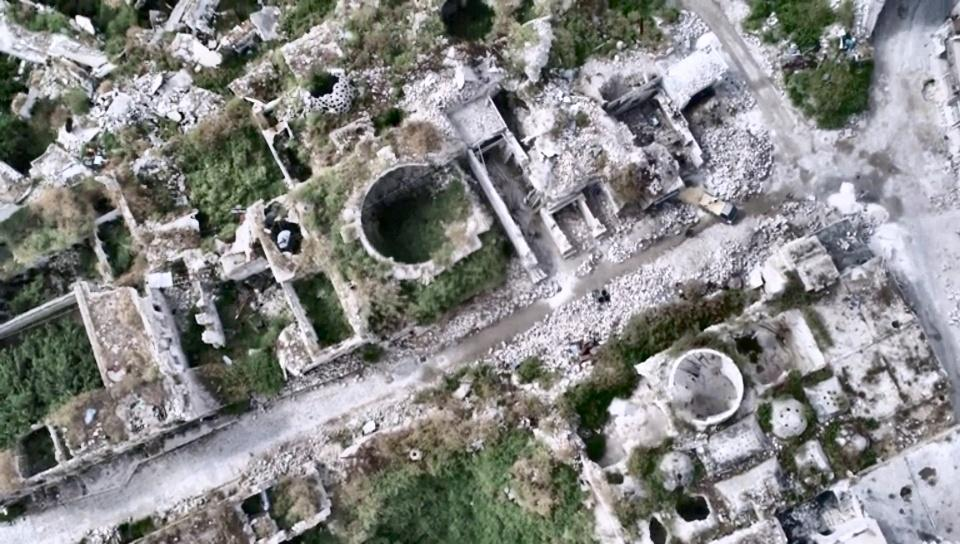kapali: (410, 158, 870, 395)
